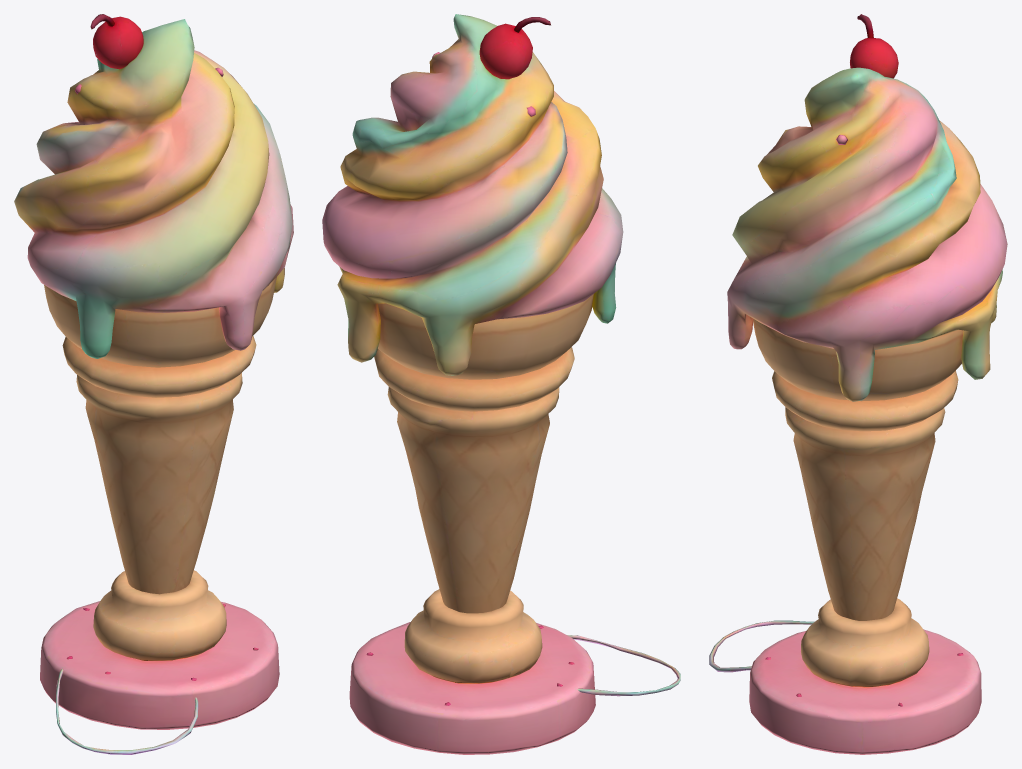
The model's file is icecream-cone-lamp.glb.
3 renders of one model, left to right at view 1: azimuth 30°, elevation 25°; view 2: azimuth 150°, elevation 25°; view 3: azimuth 270°, elevation 25°, orthographic. The views are drawn at different scales.
Parts seen in each view (by area): view 1: geometry_0; view 2: geometry_0; view 3: geometry_0.
Boxes of the visible parts, <box> form: geometry_0: <box>14,14,293,754</box>; geometry_0: <box>322,14,680,754</box>; geometry_0: <box>709,14,1007,754</box>.
Bounding box in the file's own units: 0.4189 × 1 × 0.409.
Materials: 1 (1 with a texture image).
